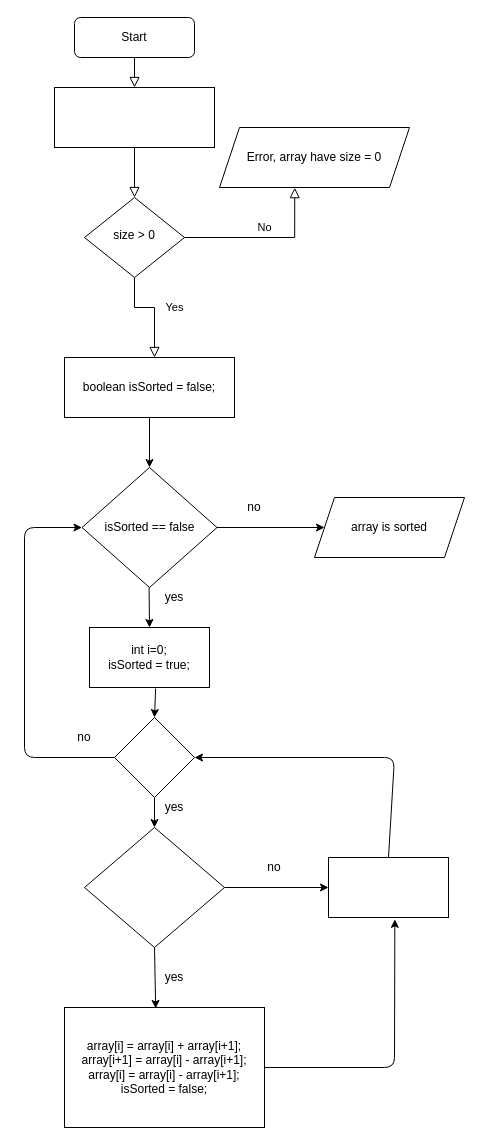
This 482x1145 diagram has some shape labels left out. Here are the shapes that lost their labels. From the top down, the centre of each, then its label:
At (x=134, y=117): "int[] array = new int[size]; //initialize array".
At (x=154, y=757): "i < size-1;".
At (x=154, y=887): "if(array[i] > array[i+1])".
At (x=388, y=887): "i++;".
